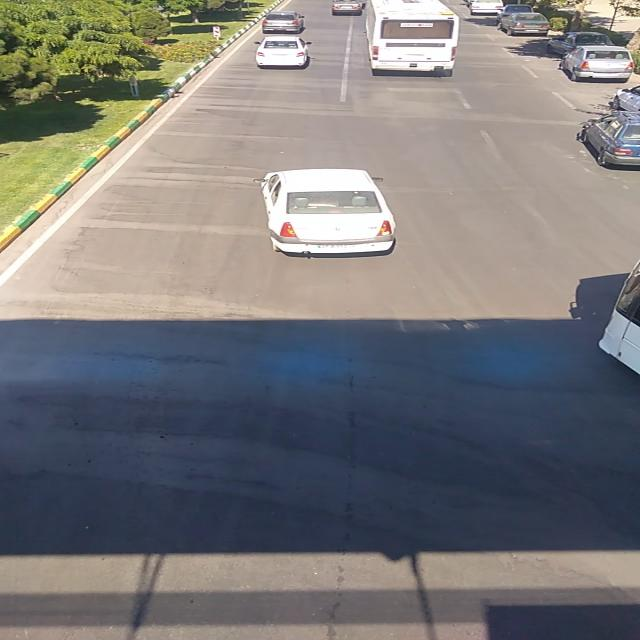bus: (368, 0, 458, 78)
car: (253, 170, 398, 256), (575, 110, 637, 168), (558, 45, 636, 81), (250, 36, 314, 68), (261, 10, 307, 32), (497, 15, 546, 35), (468, 1, 508, 16), (332, 2, 360, 14)
